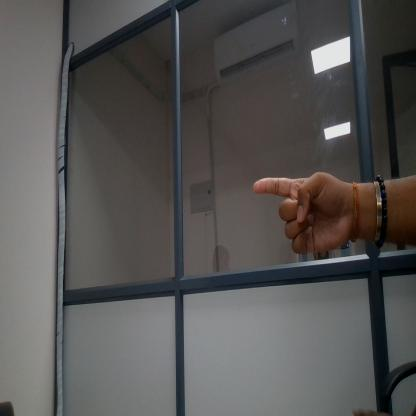Right: (243, 156, 360, 272)
